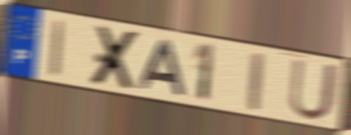1: (193, 41, 216, 105)
A: (137, 38, 188, 99)
I: (47, 17, 66, 80), (248, 49, 265, 114)
U: (287, 57, 341, 123)
X: (88, 24, 143, 92)
